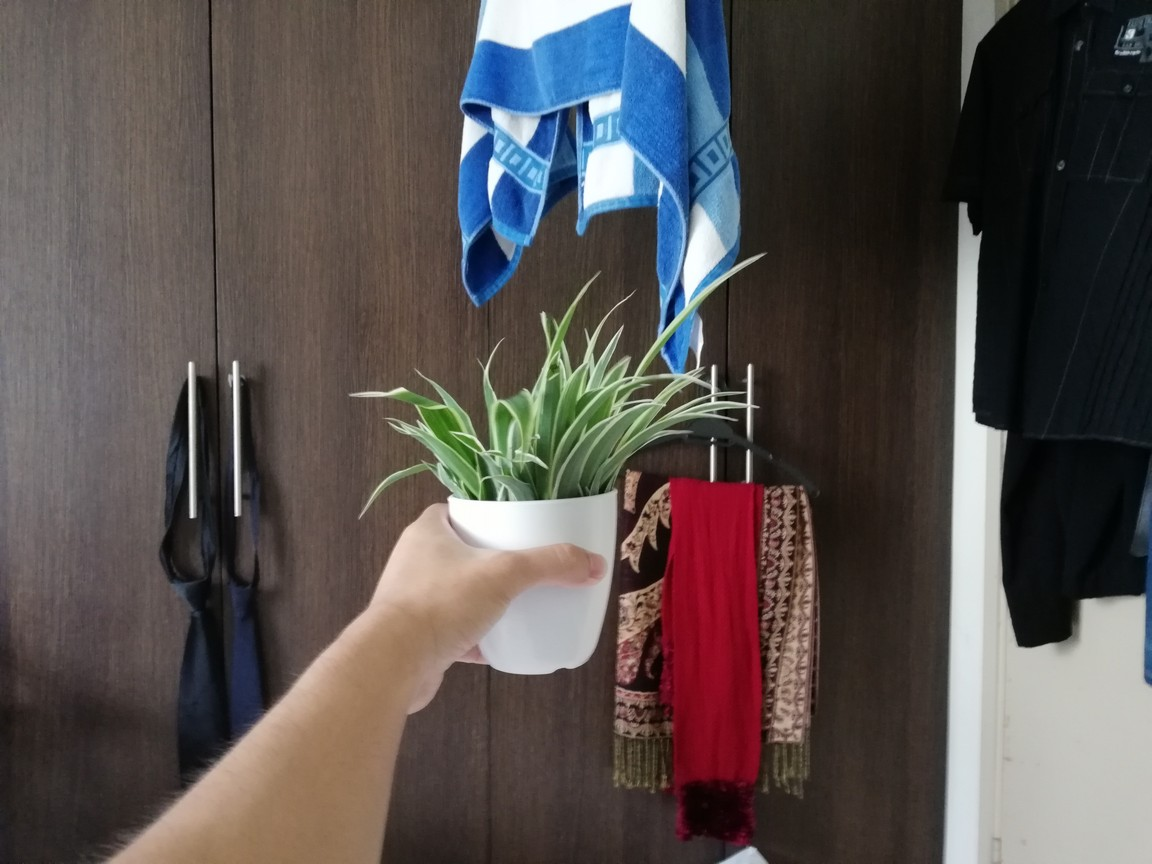daun: (646, 249, 771, 370), (357, 463, 418, 526), (500, 389, 529, 472), (557, 269, 603, 321), (413, 365, 459, 411), (347, 385, 432, 408), (477, 334, 505, 401), (598, 284, 637, 321), (664, 363, 707, 395), (563, 359, 591, 408), (684, 400, 762, 413), (603, 353, 633, 385), (449, 428, 481, 453), (383, 416, 419, 438), (513, 449, 548, 471), (605, 323, 625, 359), (689, 390, 748, 402), (682, 412, 738, 424), (583, 327, 596, 378), (387, 421, 413, 440), (656, 428, 693, 440), (419, 457, 437, 477), (416, 416, 428, 434)
